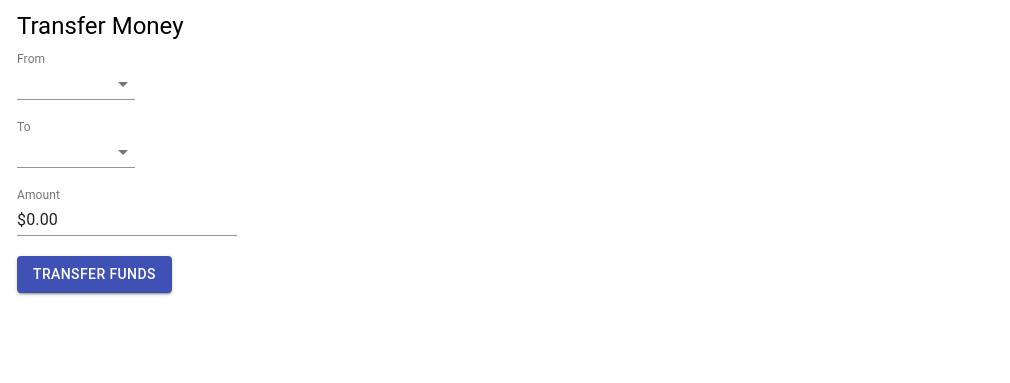
Test: <TransferPage /> › should error out if accounts are the same
Step 1. Select "Example2 - 2" in the dropdown labelled "From" → {"x": 76, "y": 84}, box [17,68,135,100]
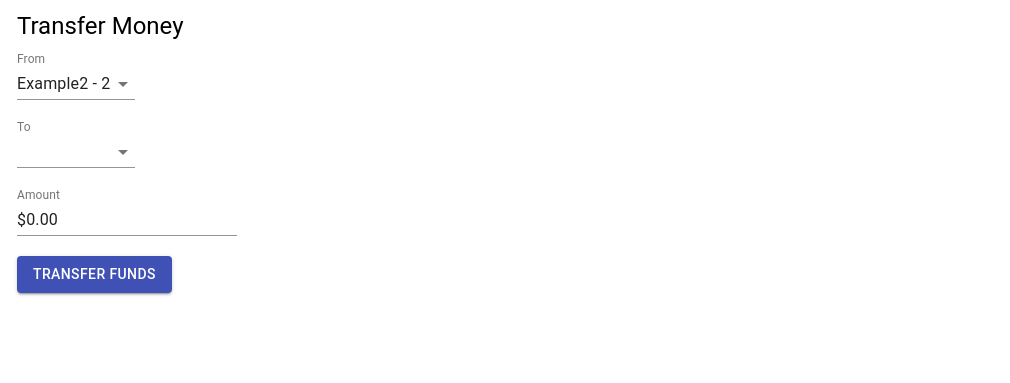
Step 2. Select "Example2 - 2" in the dropdown labelled "To" → {"x": 76, "y": 152}, box [17,136,135,168]
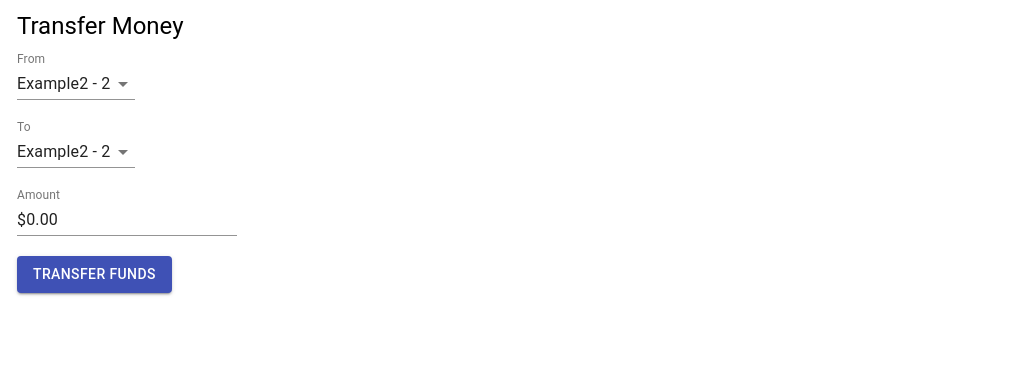
Step 3. Replace the text in the field labelled "Amount" with "600.54" → {"x": 127, "y": 220}, box [17,204,237,236]
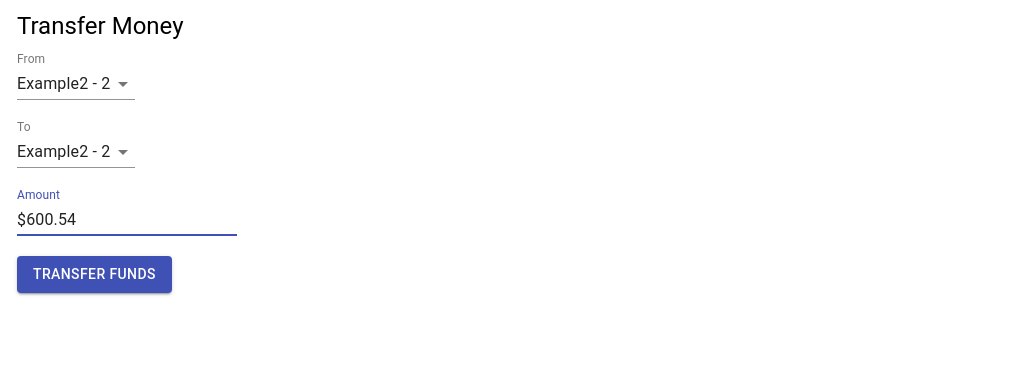
Step 4. Click the button with test id "start-transfer-button" → {"x": 94, "y": 274}, box [17,256,172,292]
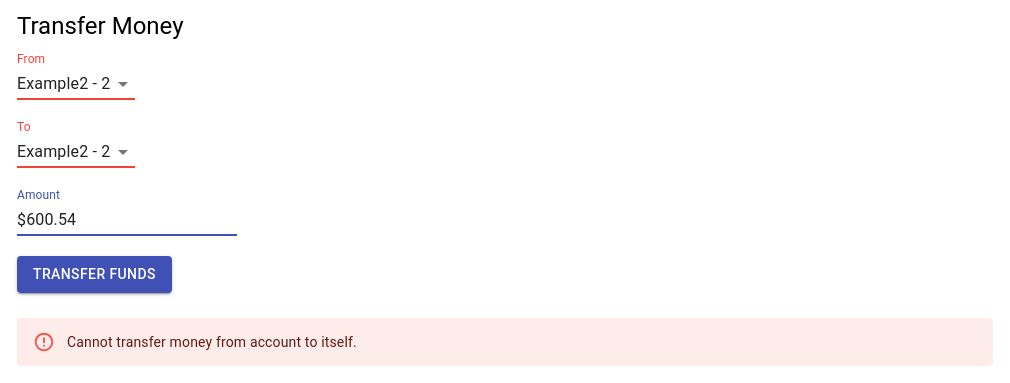
Expected: the text "Cannot transfer money from account to itself." is shown, [67,334,357,350]
